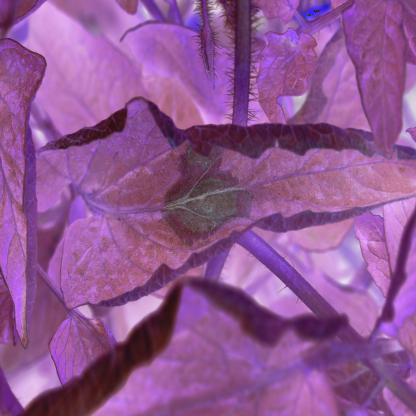Tomato leaf late blight: (49, 117, 416, 301)
